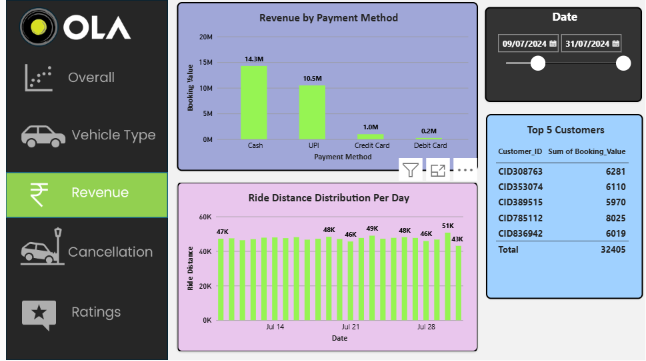

The dashboard page shown, as its layout file describes it:
{"tool":"powerbi","page":{"name":"Revenue","canvas":[1920,1080],"ordinal":2},"visuals":[{"type":"actionButton","box":[317.3,283.9,324.5,93.1],"z":0},{"type":"actionButton","box":[317.3,620.3,324.5,97.8],"z":1000},{"type":"actionButton","box":[317.3,756.3,324.5,85.9],"z":2000},{"type":"actionButton","box":[317.3,403.2,324.5,88.3],"z":3000},{"type":"columnChart","title":"Revenue by Payment Method","fields":{"Category":["July.Payment_Method"],"Y":["Sum(July.Booking_Value)"]},"box":[662,180,602,338],"z":4000},{"type":"columnChart","title":"Ride Distance Distribution Per Day","fields":{"Category":["July.Date"],"Y":["Sum(July.Ride_Distance)"]},"box":[662,540,602,340],"z":5000},{"type":"slicer","title":"Date","fields":{"Values":["July.Date"]},"box":[1278,190,314,190],"z":6000},{"type":"tableEx","title":"Top 5 Customers","fields":{"Values":["July.Customer_ID","Sum(July.Booking_Value)"]},"box":[1280,404,314,370],"z":6001}]}

Visuals, with their boxes in screenshot pixels (x1, y1, x2, y2), scaled from the page's 1920x1080 canvas onto the 646x361 screenshot:
actionButton: <bbox>107, 95, 216, 126</bbox>
actionButton: <bbox>107, 207, 216, 240</bbox>
actionButton: <bbox>107, 253, 216, 282</bbox>
actionButton: <bbox>107, 135, 216, 164</bbox>
"Revenue by Payment Method" columnChart: <bbox>223, 60, 425, 173</bbox>
"Ride Distance Distribution Per Day" columnChart: <bbox>223, 180, 425, 294</bbox>
"Date" slicer: <bbox>430, 64, 536, 127</bbox>
"Top 5 Customers" tableEx: <bbox>431, 135, 536, 259</bbox>
